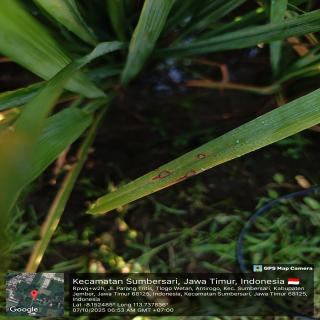Blast: (156, 170, 172, 180), (184, 170, 202, 177), (195, 153, 208, 161)
